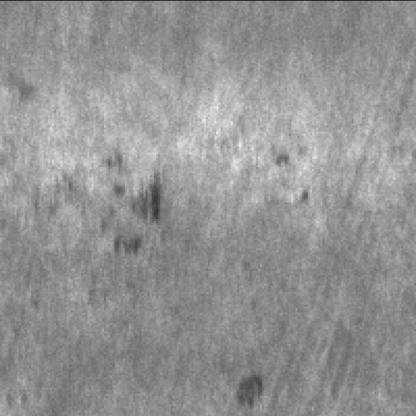rolled-in_scale: (50, 141, 164, 258)
